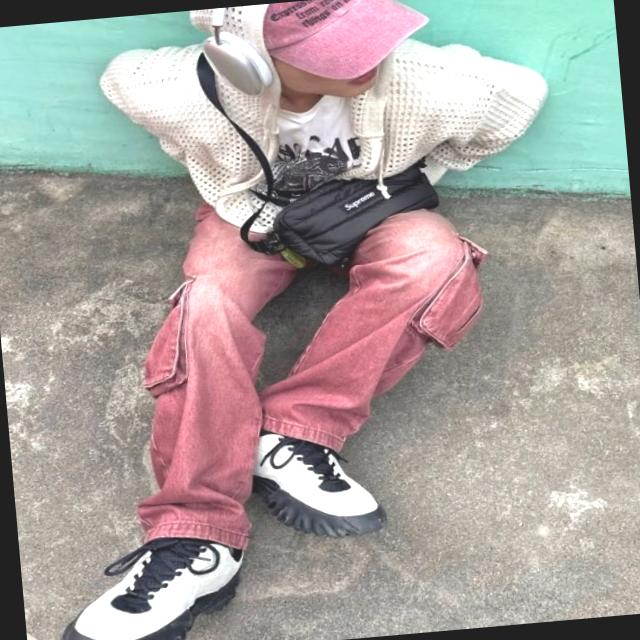denimpants: (106, 171, 506, 561)
zipup: (92, 0, 561, 246)
